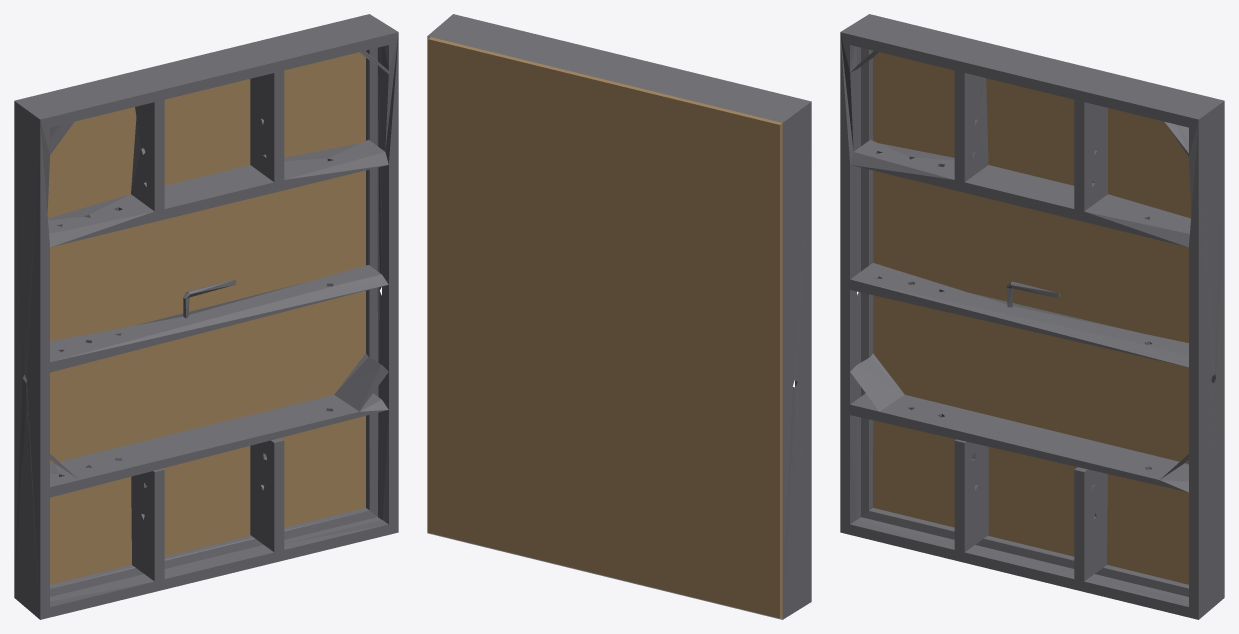
3 renders of one model, left to right at view 1: azimuth 30°, elevation 25°; view 2: azimuth 150°, elevation 25°; view 3: azimuth 330°, elevation 25°, orthographic.
Visible parts, largest first — view 1: 12904215; view 2: 12904215; view 3: 12904215.
Boxes of the visible parts, x1,y1,x2,y2 form: 12904215: [14, 14, 398, 619]; 12904215: [427, 14, 811, 619]; 12904215: [840, 14, 1224, 619].
Size of the model in its own units: 0.9 by 1.2 by 0.1241.
